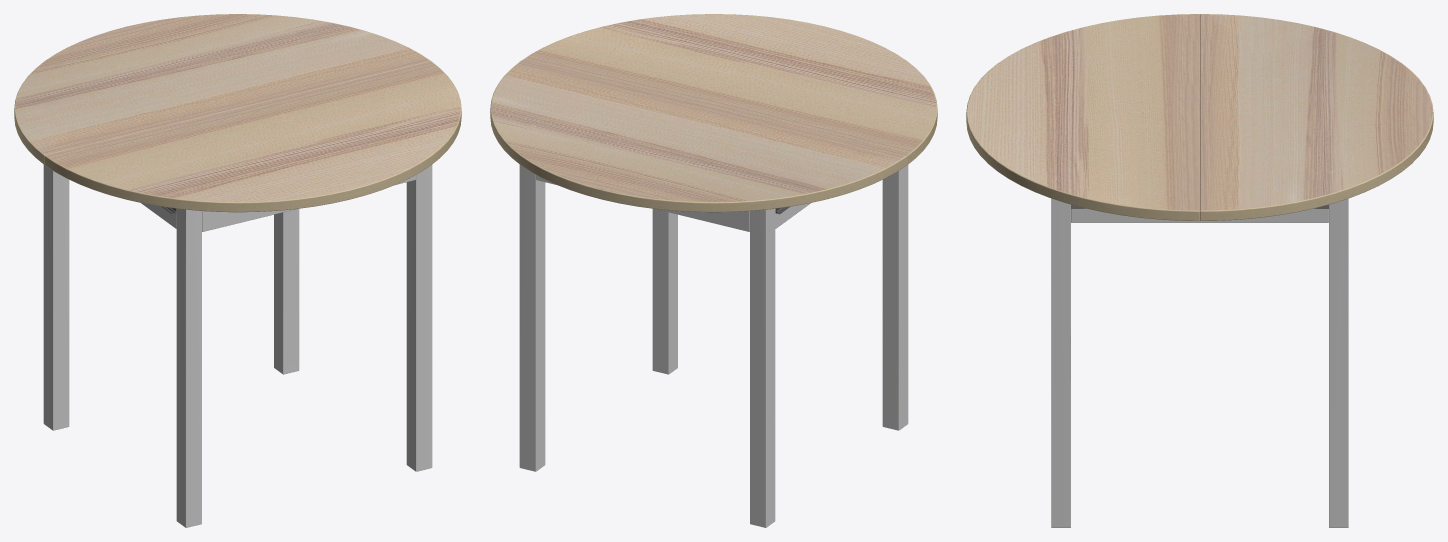
Rendered from gaperhult_sto_rozkadany_50511536.glb.
3 views of the same model, side by side, from view 1: azimuth 30°, elevation 25°; view 2: azimuth 150°, elevation 25°; view 3: azimuth 270°, elevation 25° (orthographic). The views are drawn at different scales.
Visible parts, largest first — view 1: gaperhult_sto_rozkadany_50511536; view 2: gaperhult_sto_rozkadany_50511536; view 3: gaperhult_sto_rozkadany_50511536.
Part boxes in pixels (box(x1,y1,x2,y2)): gaperhult_sto_rozkadany_50511536: box(14, 14, 461, 527); gaperhult_sto_rozkadany_50511536: box(490, 14, 937, 527); gaperhult_sto_rozkadany_50511536: box(966, 14, 1433, 527).
Size of the model in its own units: 0.8997 by 0.75 by 0.8998.
Materials: 1 (1 with a texture image).
